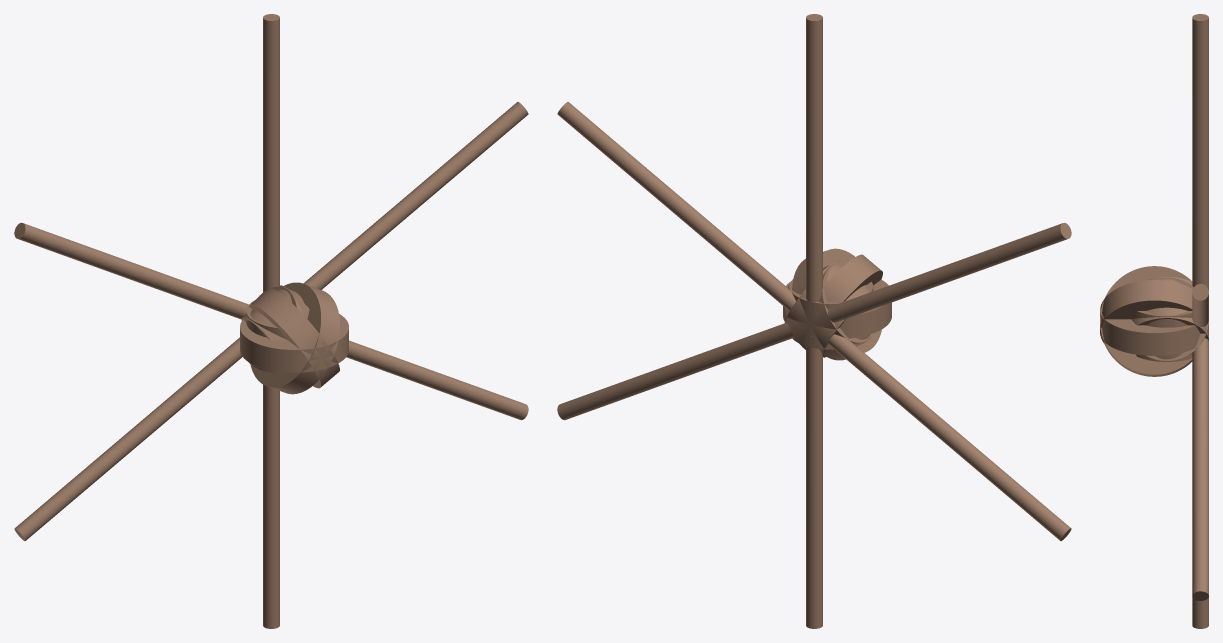
Rendered from ore-cart.mac.glb.
3 views of the same model, side by side, from view 1: azimuth 30°, elevation 25°; view 2: azimuth 150°, elevation 25°; view 3: azimuth 270°, elevation 25° (orthographic).
Parts seen in each view (by area): view 1: temp_output_0.stl; view 2: temp_output_0.stl; view 3: temp_output_0.stl.
Boxes of the visible parts, <box> form: temp_output_0.stl: <box>14,14,528,628</box>; temp_output_0.stl: <box>557,14,1071,628</box>; temp_output_0.stl: <box>1100,14,1208,628</box>.
Bounding box in the file's own units: 703 × 800 × 130.
